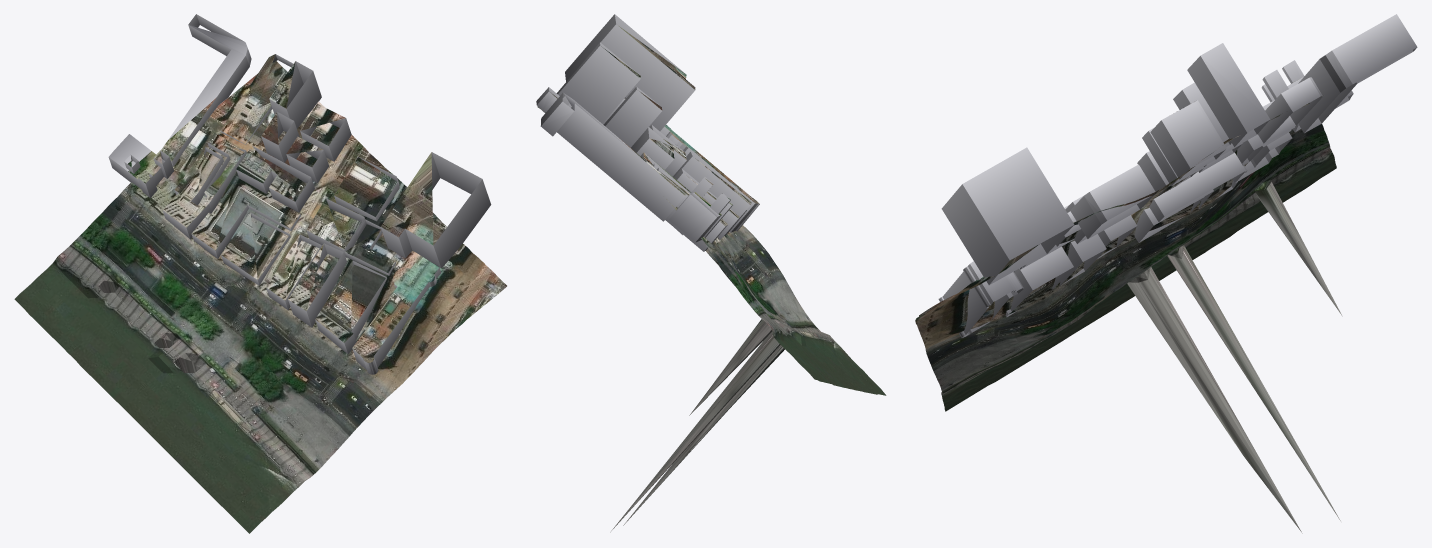
The picture shows the model from 3 angles, left to right: view 1: azimuth 30°, elevation 25°; view 2: azimuth 150°, elevation 25°; view 3: azimuth 270°, elevation 25°; orthographic projection. The views are drawn at different scales.
Size of the model in its own units: 298 by 330 by 283.
Materials: 1 (1 with a texture image).
